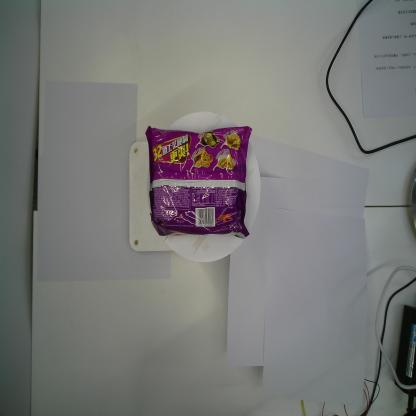Instant Noodles: (145, 124, 253, 240)
